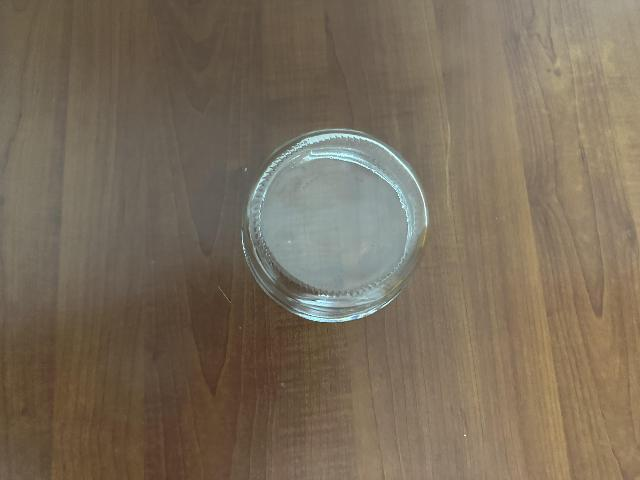Cam: (249, 125, 433, 319)
